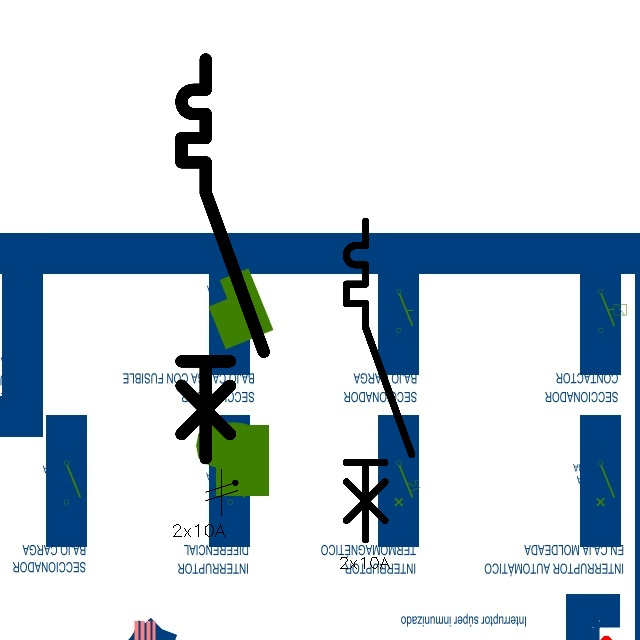interruptor_termomagnetico: (171, 49, 273, 469), (338, 213, 420, 548)
